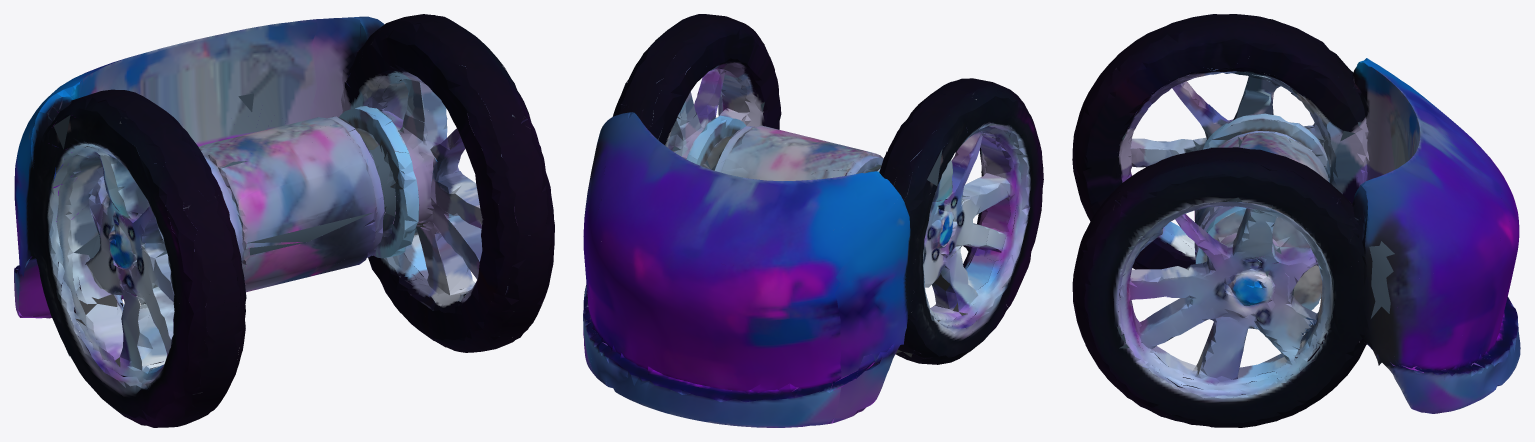
The model's file is stockcar3.glb.
3 renders of one model, left to right at view 1: azimuth 30°, elevation 25°; view 2: azimuth 150°, elevation 25°; view 3: azimuth 270°, elevation 25°, orthographic. The views are drawn at different scales.
Visible parts, largest first — view 1: panel_hood, panel_bumper_f, panel_trunk, panel_roof, susp_front_R, panel_door_L, susp_front_L, panel_bumper_r, susp_rear_L, wheel_front_L, panel_door_R, glass_panel_bumper_f (+1 smaller); view 2: panel_bumper_r, panel_trunk, panel_roof, panel_hood, susp_front_L, panel_bumper_f, panel_door_L, susp_rear_L, wheel_front_L, susp_rear_R, wheel_rear_L; view 3: panel_hood, panel_trunk, panel_roof, panel_bumper_f, panel_bumper_r, panel_door_R, susp_front_R, susp_rear_R, panel_door_L, body, glass_panel_trunk, susp_front_L.
Part boxes in pixels (left/top/right/bottom): panel_hood: left=97, top=21, right=553, bottom=418; panel_bumper_f: left=117, top=177, right=554, bottom=427; panel_trunk: left=16, top=16, right=401, bottom=283; panel_roof: left=33, top=14, right=465, bottom=217; susp_front_R: left=372, top=196, right=546, bottom=352; panel_door_L: left=33, top=178, right=157, bottom=397; susp_front_L: left=66, top=199, right=202, bottom=427; panel_bumper_r: left=14, top=83, right=368, bottom=318; susp_rear_L: left=14, top=247, right=124, bottom=357; wheel_front_L: left=76, top=304, right=123, bottom=360; panel_door_R: left=342, top=100, right=465, bottom=321; glass_panel_bumper_f: left=247, top=212, right=372, bottom=255; panel_bumper_r: left=583, top=211, right=892, bottom=427; panel_trunk: left=585, top=112, right=915, bottom=358; panel_roof: left=612, top=30, right=968, bottom=241; panel_hood: left=661, top=14, right=1042, bottom=357; susp_front_L: left=918, top=194, right=1031, bottom=360; panel_bumper_f: left=701, top=88, right=1043, bottom=338; panel_door_L: left=896, top=194, right=972, bottom=364; susp_rear_L: left=775, top=298, right=939, bottom=424; wheel_front_L: left=908, top=282, right=961, bottom=326; susp_rear_R: left=583, top=290, right=619, bottom=387; wheel_rear_L: left=898, top=319, right=922, bottom=353; panel_hood: left=1073, top=14, right=1251, bottom=427; panel_trunk: left=1354, top=58, right=1515, bottom=377; panel_roof: left=1222, top=15, right=1362, bottom=272; panel_bumper_f: left=1072, top=138, right=1212, bottom=425; panel_bumper_r: left=1390, top=165, right=1520, bottom=413; panel_door_R: left=1235, top=244, right=1362, bottom=426; susp_front_R: left=1088, top=293, right=1316, bottom=427; susp_rear_R: left=1256, top=301, right=1500, bottom=421; panel_door_L: left=1304, top=126, right=1363, bottom=203; body: left=1260, top=138, right=1330, bottom=310; glass_panel_trunk: left=1358, top=122, right=1394, bottom=318; susp_front_L: left=1090, top=170, right=1195, bottom=269.
Bounding box in the file's own units: 3.34 × 2.67 × 4.
3 materials, 1 textured.
